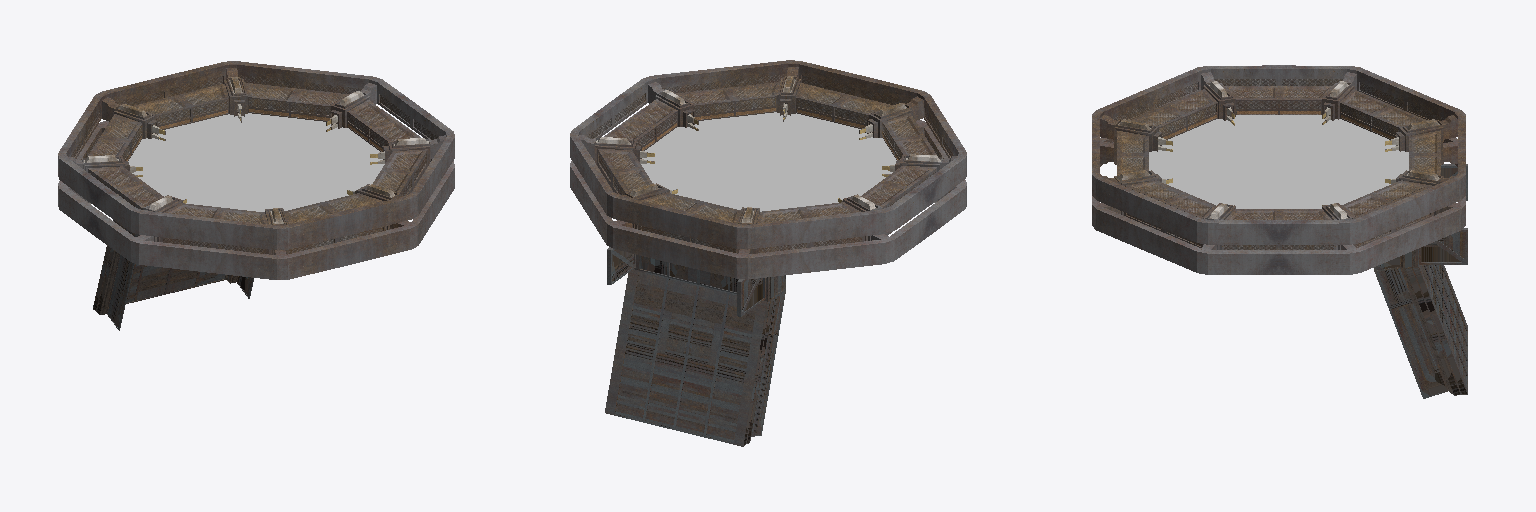
3 renders of one model, left to right at view 1: azimuth 30°, elevation 25°; view 2: azimuth 150°, elevation 25°; view 3: azimuth 270°, elevation 25°, orthographic.
Parts seen in each view (by area): view 1: Portal___Frame, Portal___Hole, Portal___Platform; view 2: Portal___Frame, Portal___Platform, Portal___Hole; view 3: Portal___Frame, Portal___Hole, Portal___Platform.
Boxes of the visible parts, box(x1,y1,x2,y2) form: Portal___Frame: box(58, 61, 454, 279); Portal___Hole: box(128, 113, 384, 211); Portal___Platform: box(93, 220, 253, 330); Portal___Frame: box(570, 60, 966, 279); Portal___Platform: box(605, 247, 785, 446); Portal___Hole: box(641, 112, 896, 211); Portal___Frame: box(1092, 65, 1465, 274); Portal___Hole: box(1149, 115, 1408, 208); Portal___Platform: box(1374, 164, 1467, 398).
Bounding box in the file's own units: 534 × 350 × 537.
3 materials, 2 textured.